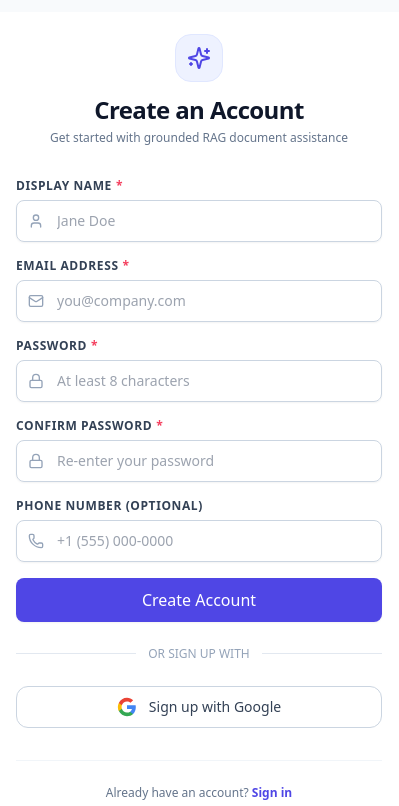
Test case: Auth Layer and Protected Routes › validates password length and matching confirmation on registration
Click the button with test id "register-submit-button" at (199, 600), box [16,578,382,622]
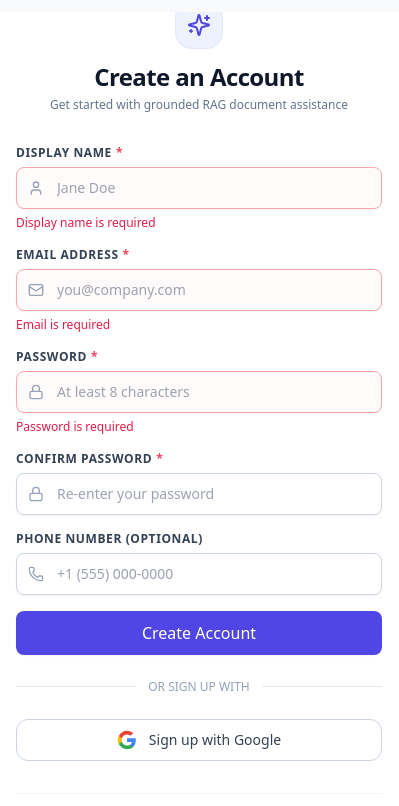
Check: the text "Display name is required" is shown, box [16,214,156,230]
Check: the text "Email is required" is shown, box [16,316,110,332]
Check: the text "Password is required" is shown, box [16,418,134,434]
Note: Short password check
Type "Bob" into the field with test id "register-name-input" at (199, 188), box [16,166,382,208]
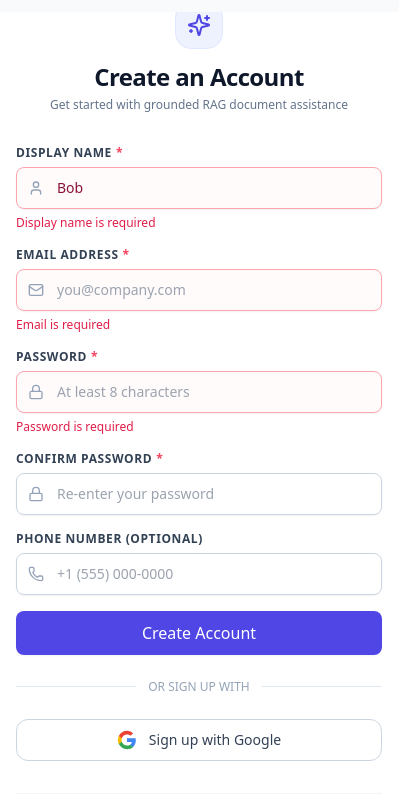
Type "bob@example.com" into the field with test id "register-email-input" at (199, 290), box [16,268,382,310]
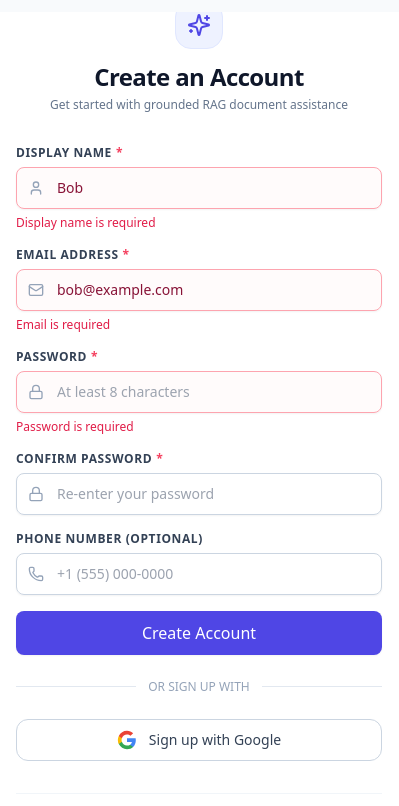
Type "short" into the password field with test id "register-password-input" at (199, 392), box [16,370,382,412]
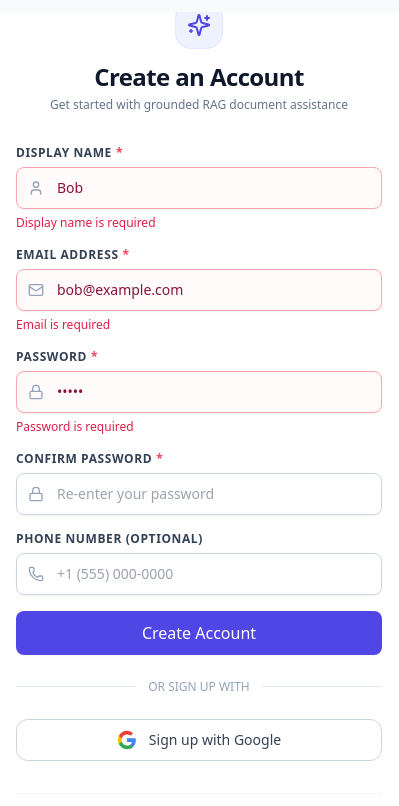
Type "different" into the password field with test id "register-confirm-password-input" at (199, 494), box [16,472,382,514]
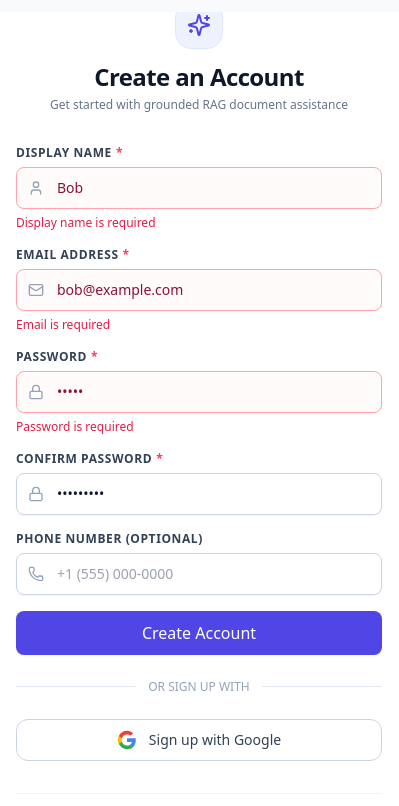
Click the button with test id "register-submit-button" at (199, 632), box [16,610,382,654]
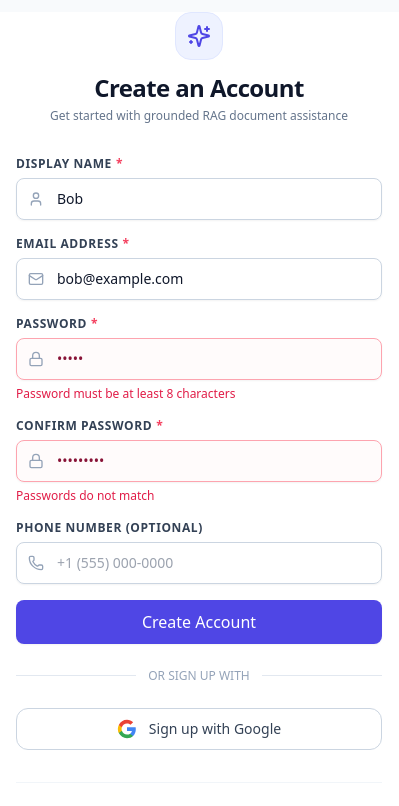
Check: the text "Password must be at least 8 characters" is shown, box [16,384,235,402]
Check: the text "Passwords do not match" is shown, box [16,486,154,504]
